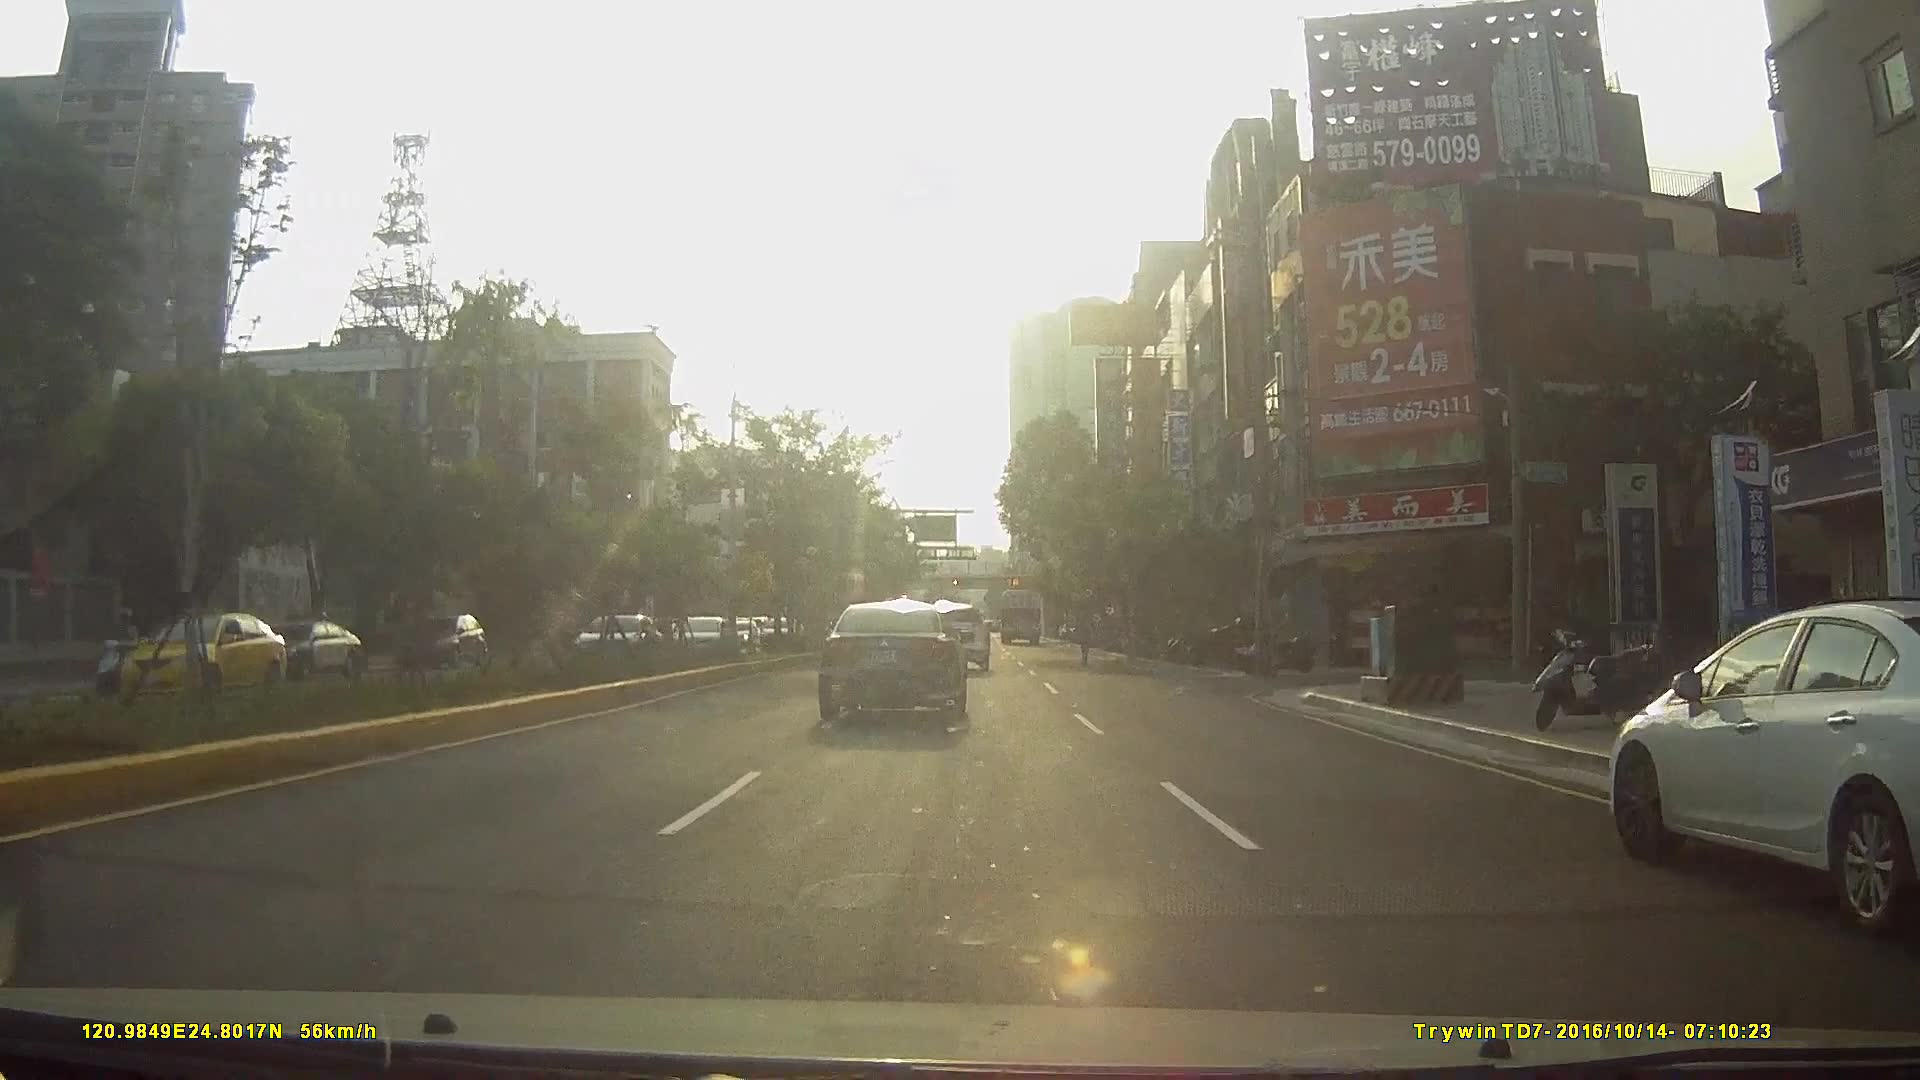vehicle: (1604, 600, 1920, 943), (98, 611, 295, 719), (816, 600, 967, 725), (144, 617, 262, 691), (248, 620, 355, 680), (916, 603, 993, 673), (392, 612, 485, 669), (562, 613, 655, 665), (996, 585, 1043, 647), (671, 613, 736, 657), (607, 620, 647, 658)
